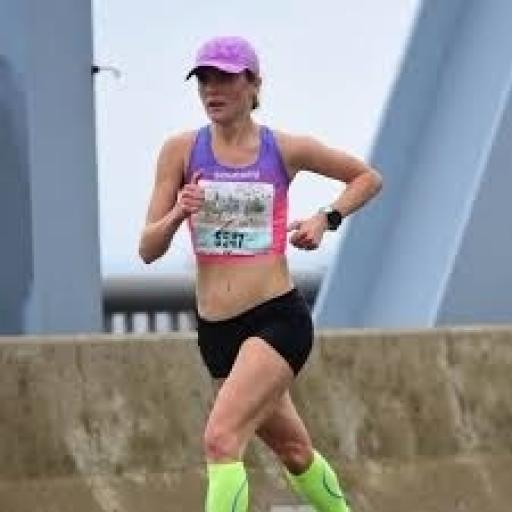running: (134, 32, 389, 510)
